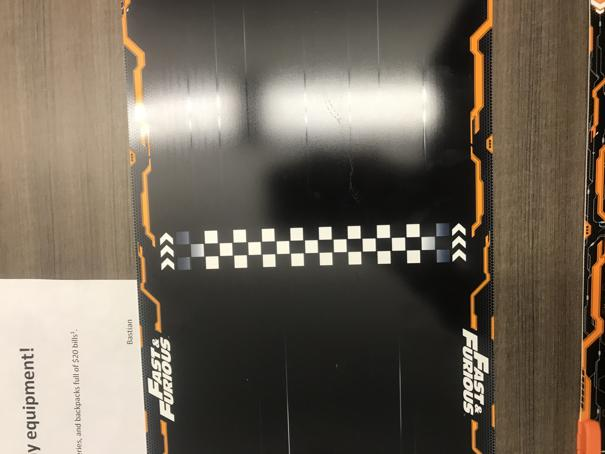Finish Line: (160, 222, 468, 271)
